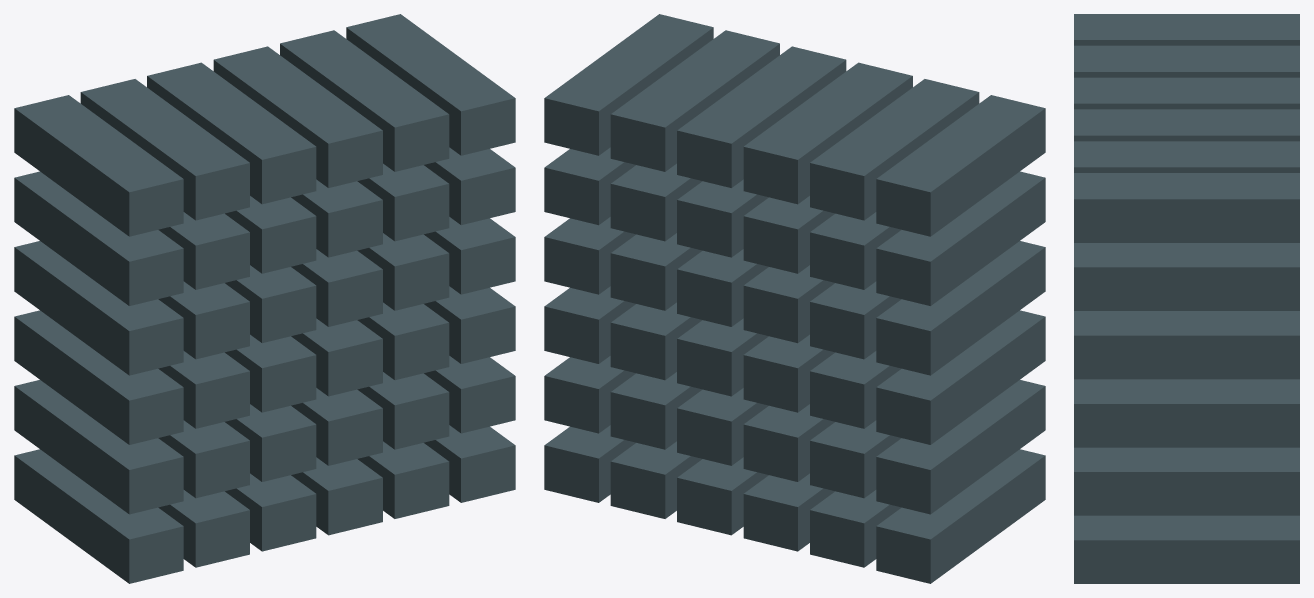
The model's file is FacadeKit_ParkingOpeningGrid_LOD0.glb.
3 views of the same model, side by side, from view 1: azimuth 30°, elevation 25°; view 2: azimuth 150°, elevation 25°; view 3: azimuth 270°, elevation 25° (orthographic).
Visible parts, largest first — view 1: FacadeKit_ParkingOpeningGrid_LOD0; view 2: FacadeKit_ParkingOpeningGrid_LOD0; view 3: FacadeKit_ParkingOpeningGrid_LOD0.
Part boxes in pixels (bbox=[...]): FacadeKit_ParkingOpeningGrid_LOD0: bbox=[14, 14, 515, 583]; FacadeKit_ParkingOpeningGrid_LOD0: bbox=[544, 14, 1045, 583]; FacadeKit_ParkingOpeningGrid_LOD0: bbox=[1074, 14, 1299, 583].
Size of the model in its own units: 0.97 by 0.94 by 0.5.
